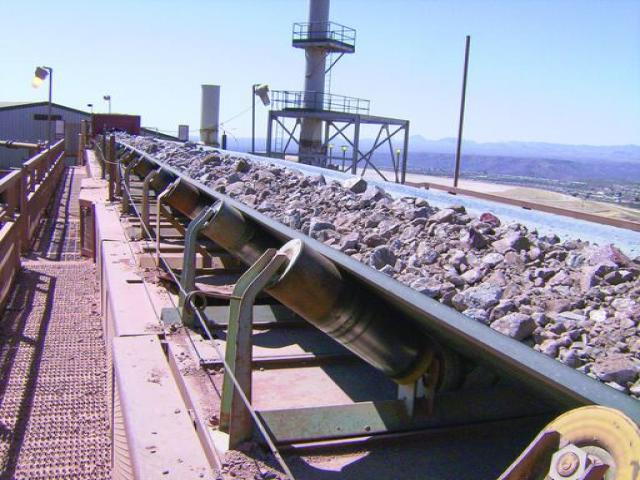conveyor: (94, 129, 638, 479)
